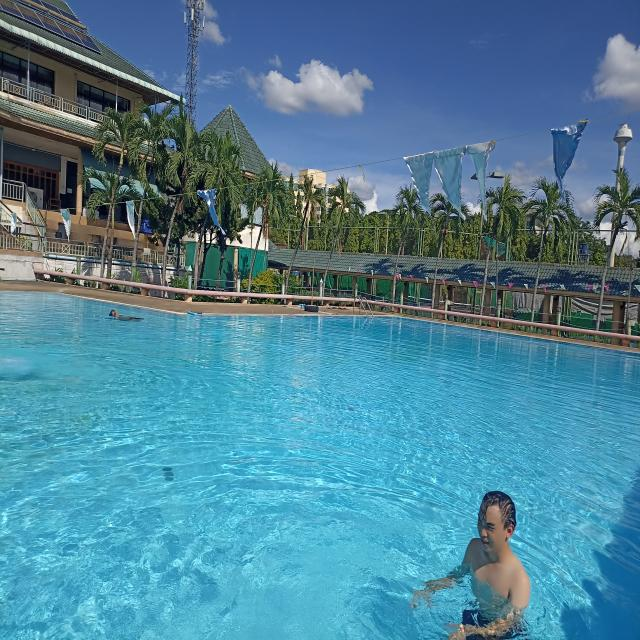Swimming: (421, 465, 553, 640), (103, 301, 152, 328)
